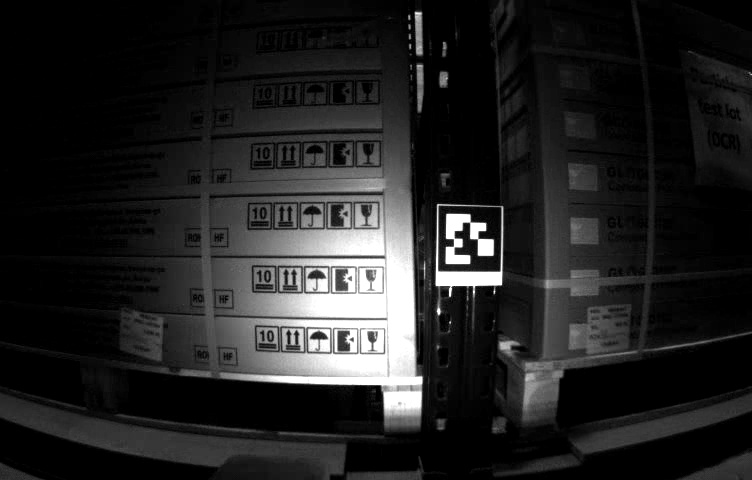True Barcode: (120, 308, 163, 361), (586, 305, 630, 353)
